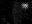person: (21, 3, 29, 10)
